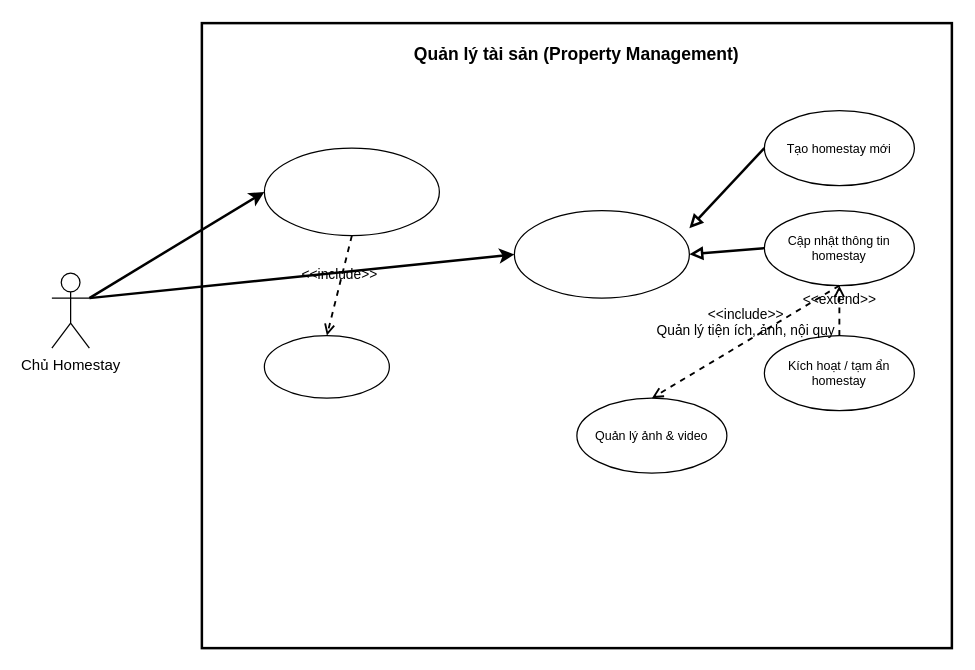
This 975x670 diagram has some shape labels left out. Here are the shapes that lost their labels. From the top down, the centre of each, then its label:
At (351,191): "Quản lý hồ sơ chủ nhà".
At (601,253): "Quản lý homestay".
At (326,366): "Xác thực".
